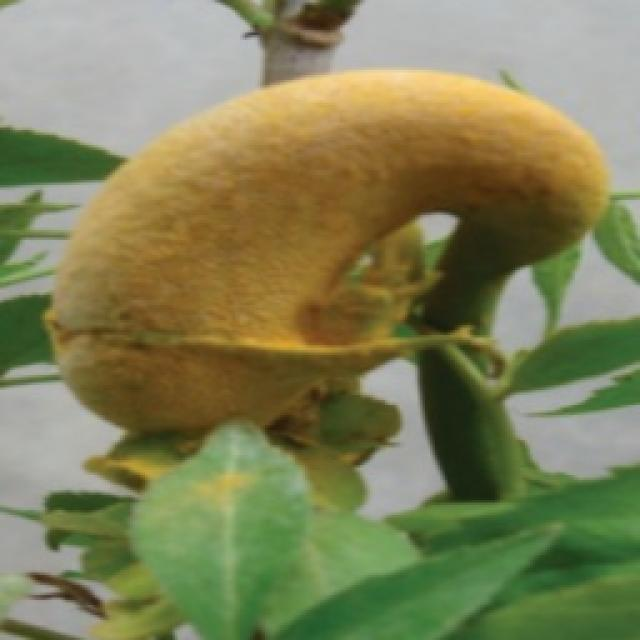Elderberry_rust: (35, 53, 626, 455)
